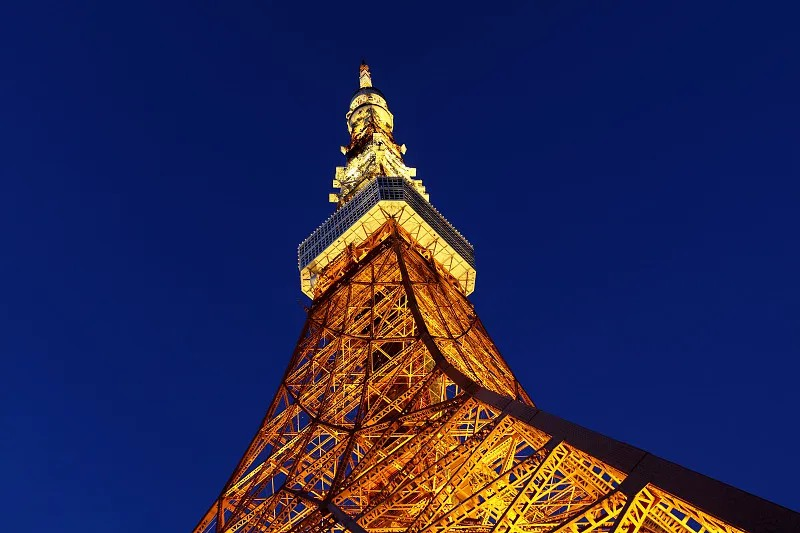Tokyo: (193, 53, 800, 531)
